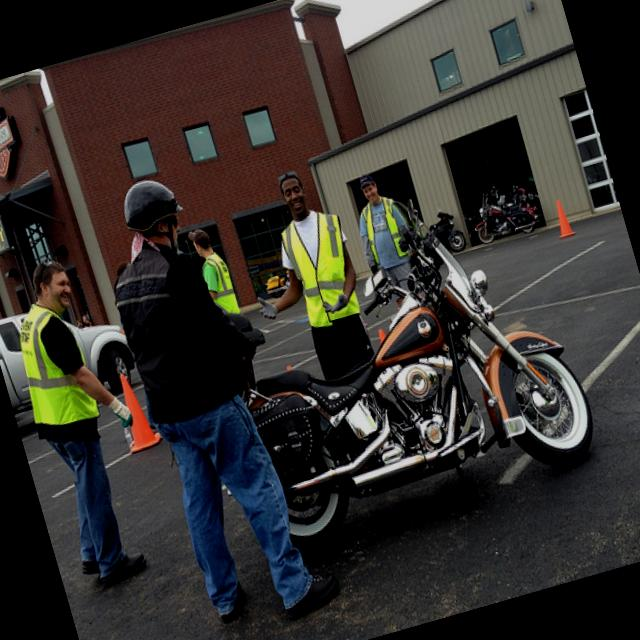Vehicle: (203, 163, 612, 549), (0, 284, 148, 442), (465, 175, 540, 248), (424, 206, 466, 256), (261, 268, 295, 300)
